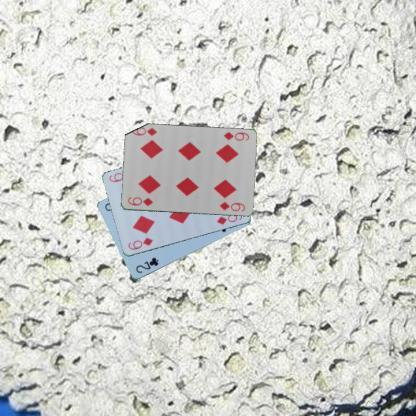2c: (132, 254, 160, 274)
6d: (125, 235, 154, 251), (124, 194, 154, 208), (221, 130, 250, 142)
